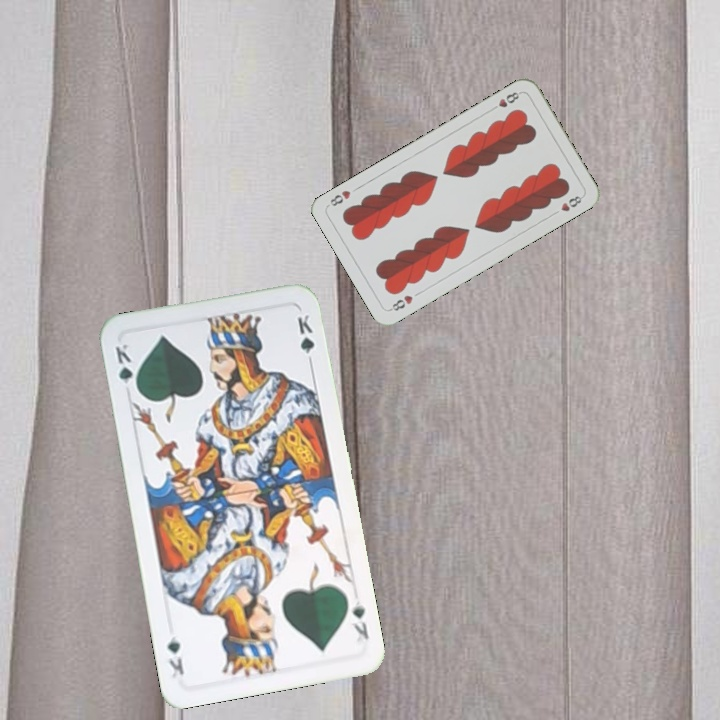GK: (111, 340, 141, 395), (347, 597, 371, 644)
H8: (487, 88, 524, 114), (386, 291, 415, 314)
